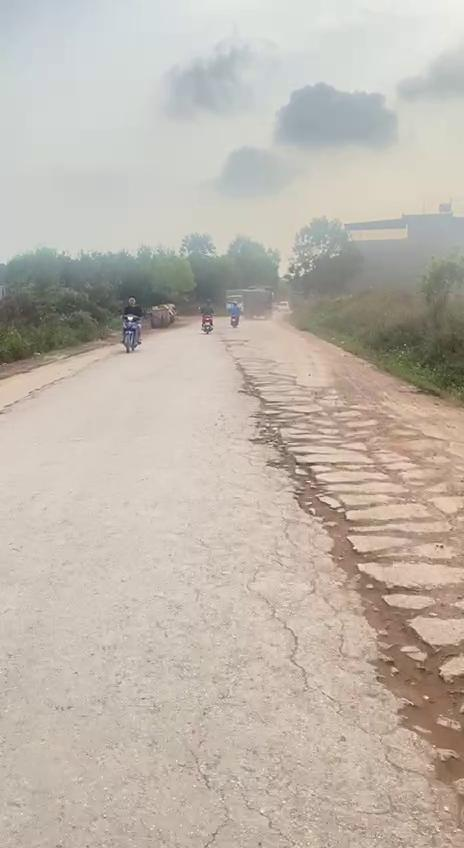pothole: (346, 572, 464, 803), (299, 492, 379, 576), (255, 428, 324, 504), (239, 376, 304, 434)
